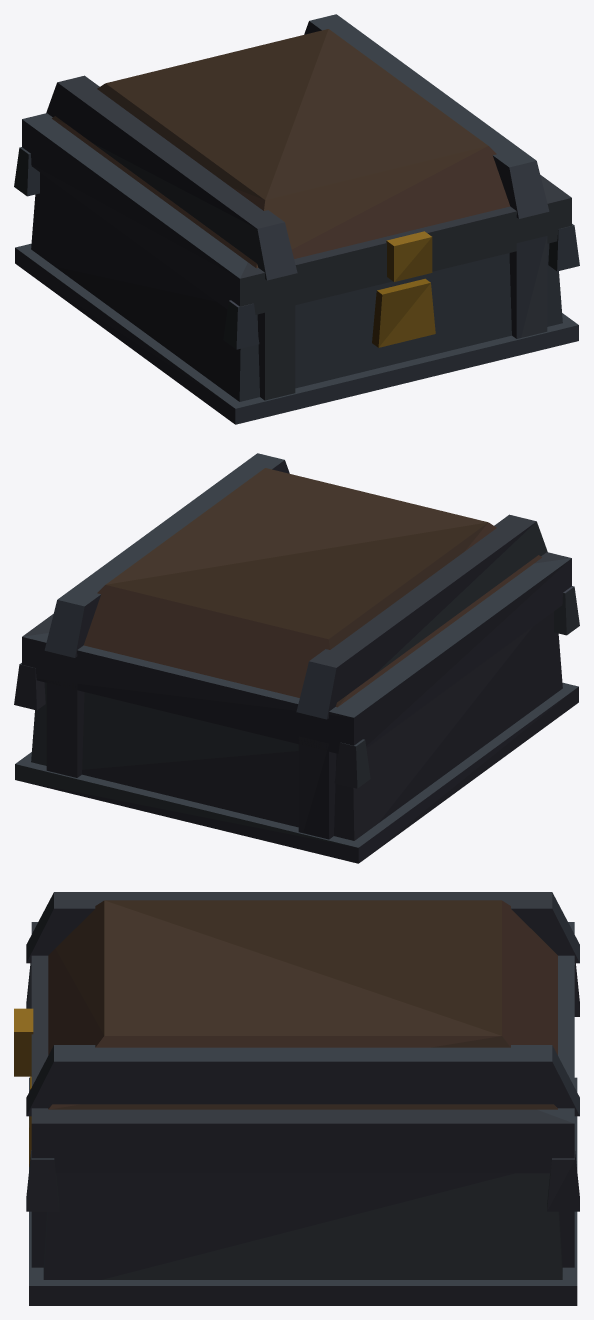
The model's file is chest.gltf.
3 renders of one model, top to bottom at view 1: azimuth 30°, elevation 25°; view 2: azimuth 150°, elevation 25°; view 3: azimuth 270°, elevation 25°, orthographic. The views are drawn at different scales.
Parts seen in each view (by area): view 1: chest_lid, chest; view 2: chest_lid, chest; view 3: chest_lid, chest.
Part boxes in pixels (left/top/right/bottom): chest_lid: left=22, top=14, right=571, bottom=314; chest: left=14, top=147, right=579, bottom=424; chest_lid: left=22, top=453, right=571, bottom=753; chest: left=14, top=586, right=579, bottom=863; chest_lid: left=14, top=892, right=579, bottom=1173; chest: left=26, top=963, right=579, bottom=1305.
Bounding box in the file's own units: 1.8 × 0.94 × 2.06.
1 material, 1 textured.
